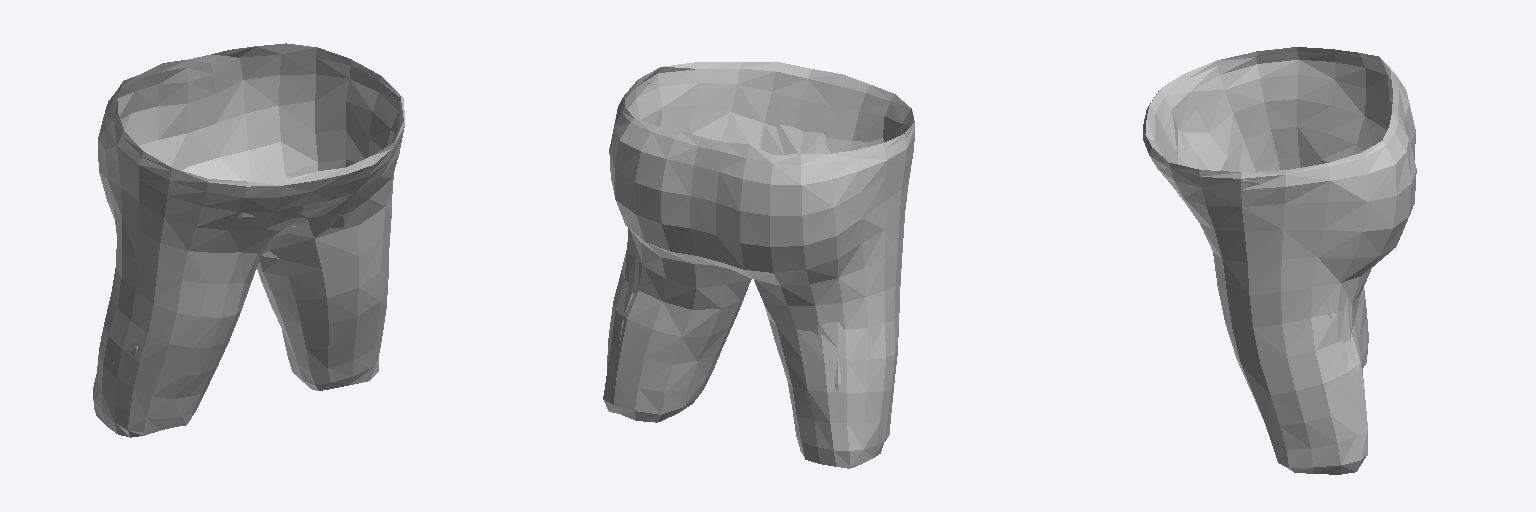
Rendered from Pants_MODEL.OBJ.
The picture shows the model from 3 angles: view 1: azimuth 30°, elevation 25°; view 2: azimuth 150°, elevation 25°; view 3: azimuth 270°, elevation 25°; orthographic projection.
Visible parts, largest first — view 1: Group1; view 2: Group1; view 3: Group1.
Part boxes in pixels (bbox=[...]): Group1: bbox=[93, 43, 404, 437]; Group1: bbox=[603, 62, 914, 468]; Group1: bbox=[1143, 47, 1416, 474].
Bounding box in the file's own units: 0.8409 × 0.967 × 0.7425.